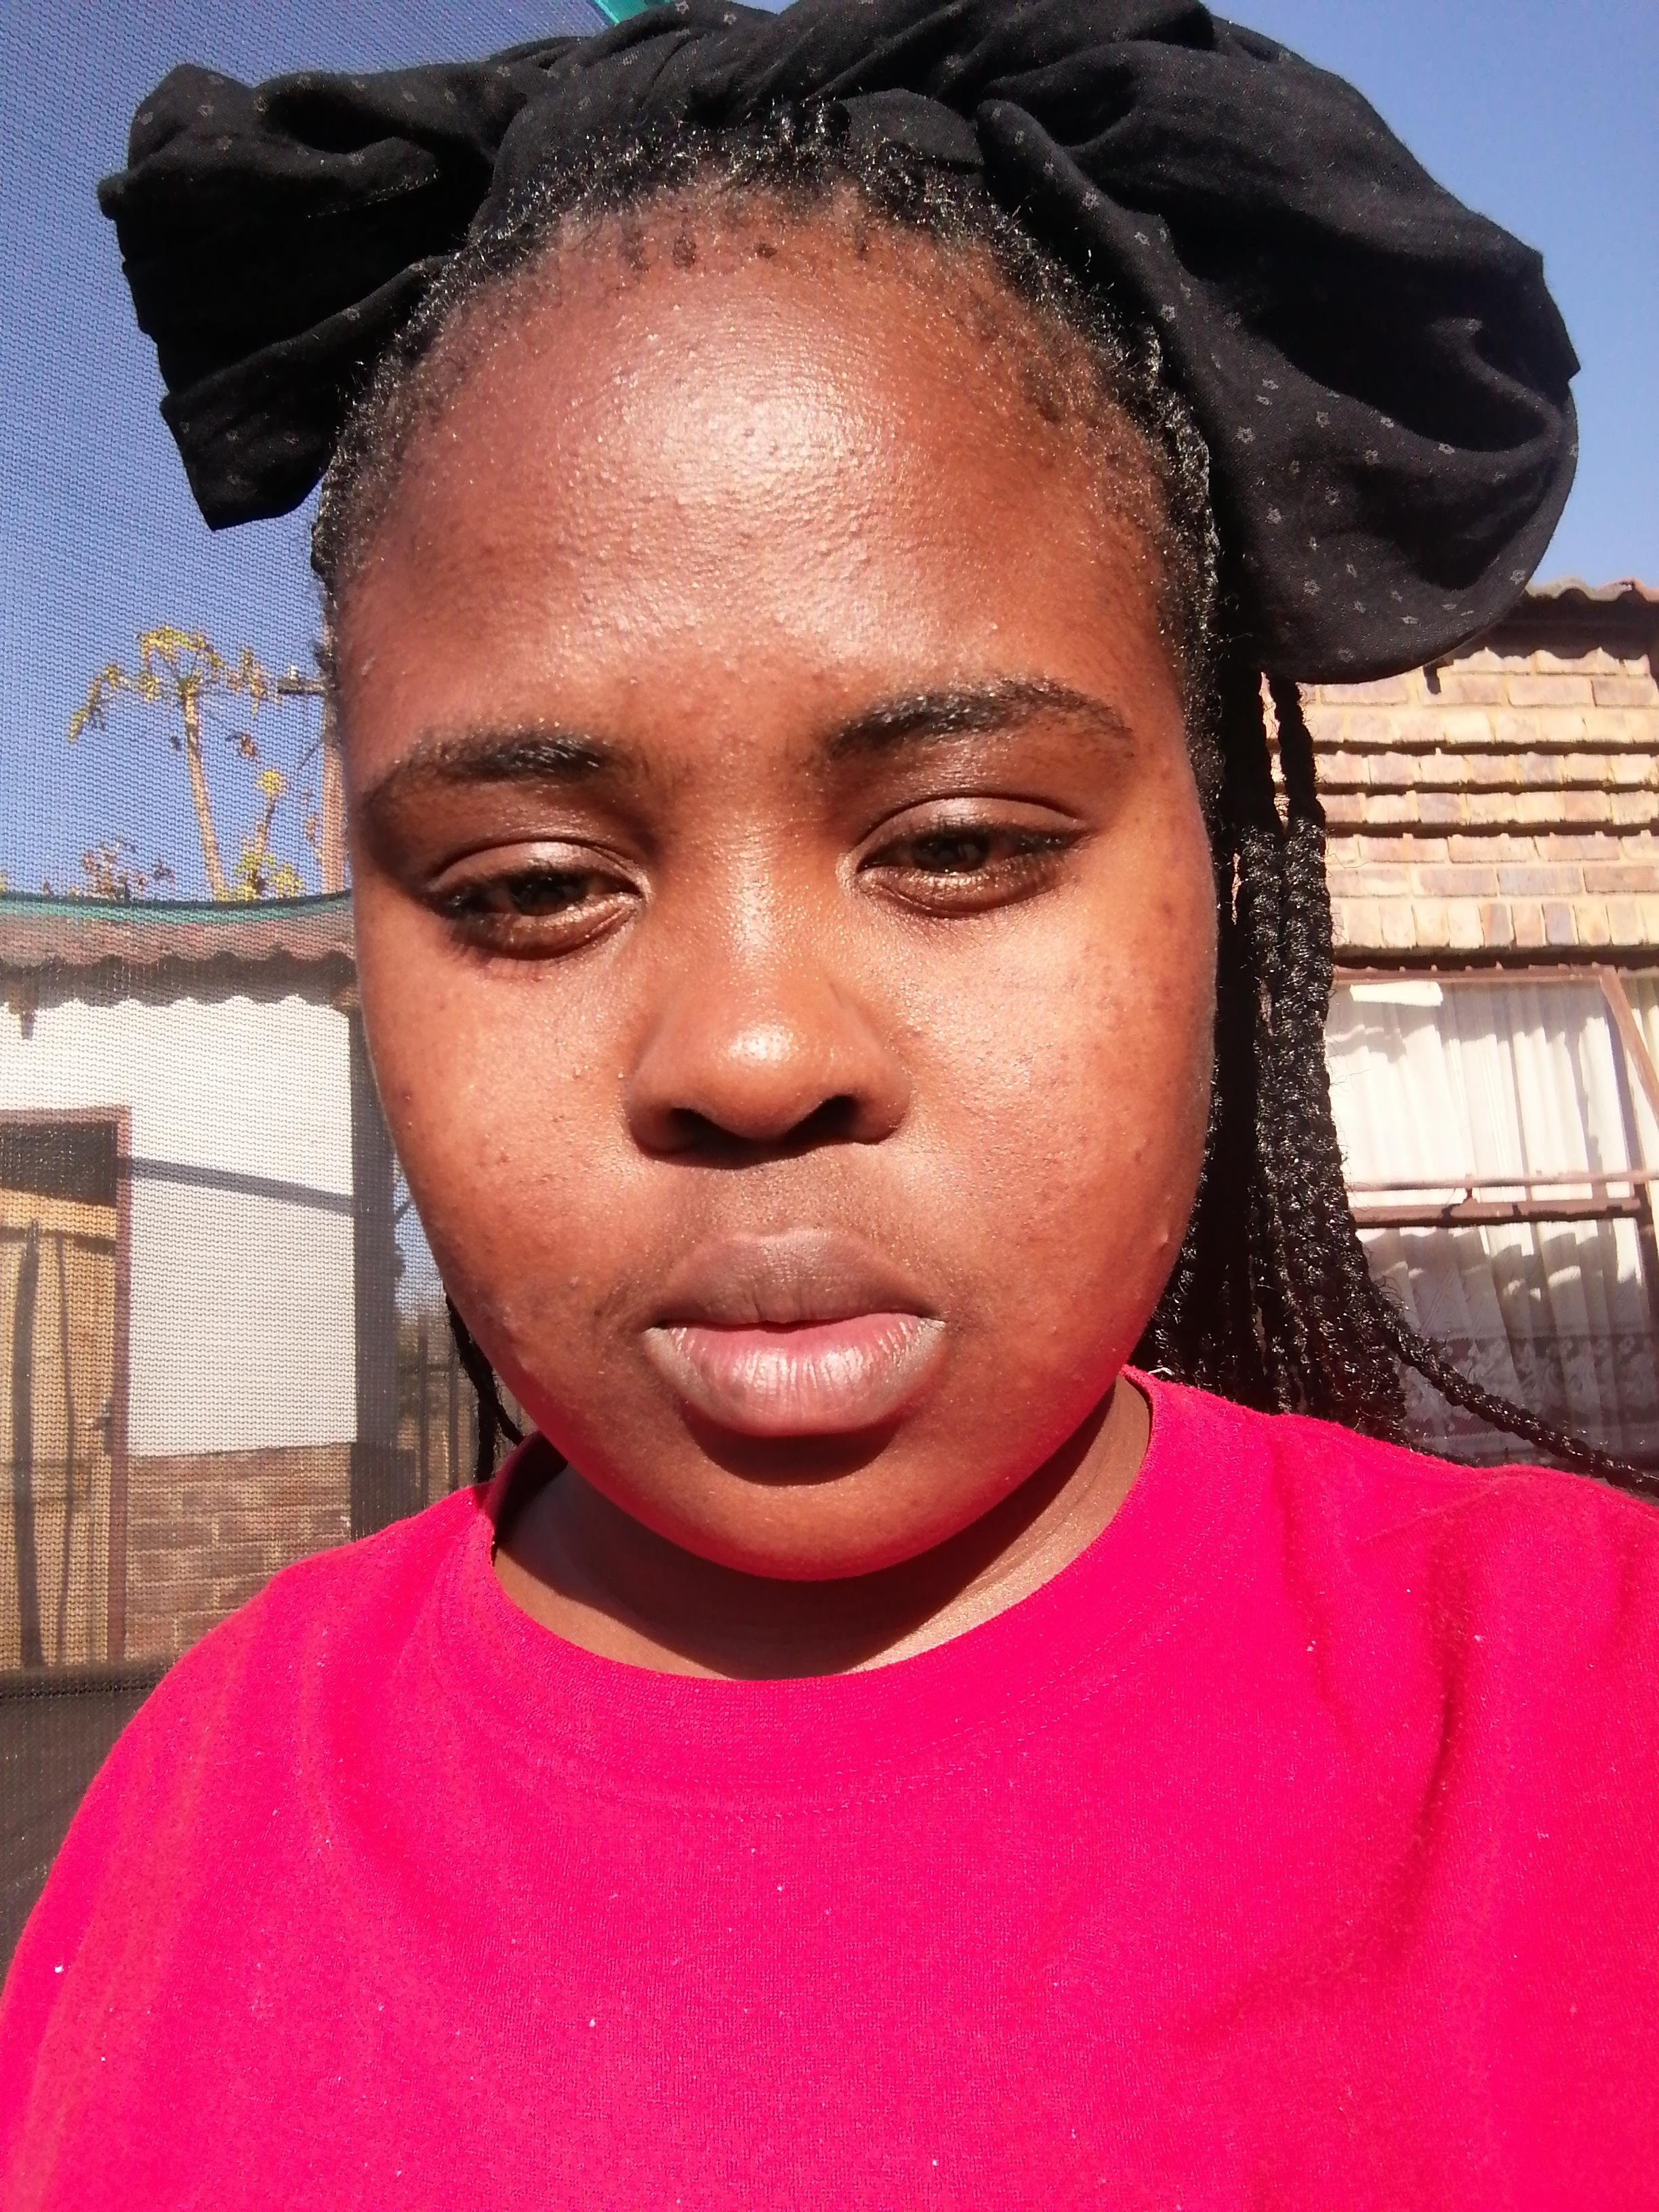Acne: (828, 439, 875, 472), (491, 1303, 525, 1341), (1122, 1130, 1155, 1169), (580, 463, 624, 489), (472, 1146, 516, 1170), (727, 469, 753, 509), (1152, 970, 1175, 1015), (512, 1352, 540, 1385), (355, 650, 378, 685), (803, 662, 831, 688), (737, 524, 762, 552), (612, 402, 640, 427), (471, 533, 500, 556), (1155, 1226, 1175, 1259), (676, 610, 704, 632), (678, 695, 699, 723), (720, 657, 742, 681), (765, 608, 789, 631), (840, 517, 866, 538), (606, 366, 633, 387), (852, 550, 880, 570), (762, 437, 784, 460), (577, 589, 598, 613), (606, 615, 631, 636), (530, 1237, 559, 1252), (622, 672, 648, 690), (981, 618, 1004, 637), (537, 1167, 559, 1186), (1157, 897, 1176, 920), (566, 1273, 584, 1298), (673, 373, 692, 392), (812, 543, 833, 561), (1159, 1186, 1176, 1207), (730, 388, 751, 406), (671, 493, 694, 509), (620, 543, 643, 559), (594, 543, 608, 568), (563, 395, 580, 415), (640, 486, 660, 502), (568, 1064, 589, 1080), (739, 427, 762, 441), (636, 329, 660, 341), (399, 1087, 413, 1108), (667, 298, 687, 312), (798, 510, 819, 523), (457, 1231, 467, 1254), (401, 1116, 415, 1130), (685, 345, 697, 361)
Englarged-Pores: (903, 982, 1061, 1205), (582, 1120, 655, 1195)
